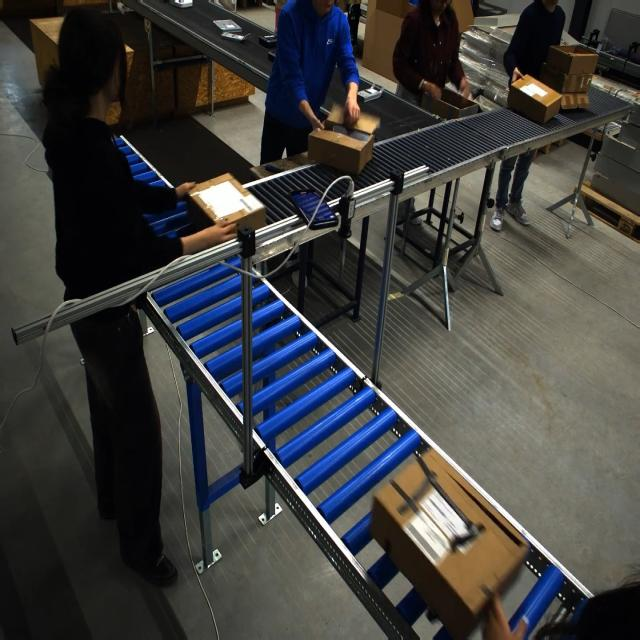box: (392, 457, 480, 555), (185, 173, 265, 236), (306, 112, 367, 178), (506, 74, 562, 125), (421, 87, 482, 123), (539, 64, 593, 94)
product: (357, 83, 382, 102), (212, 19, 242, 33), (221, 31, 249, 42), (258, 34, 276, 48), (267, 51, 276, 63)
